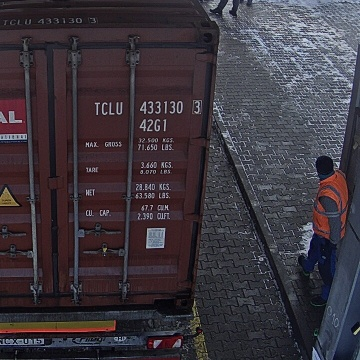serial_id: (94, 100, 200, 115)
